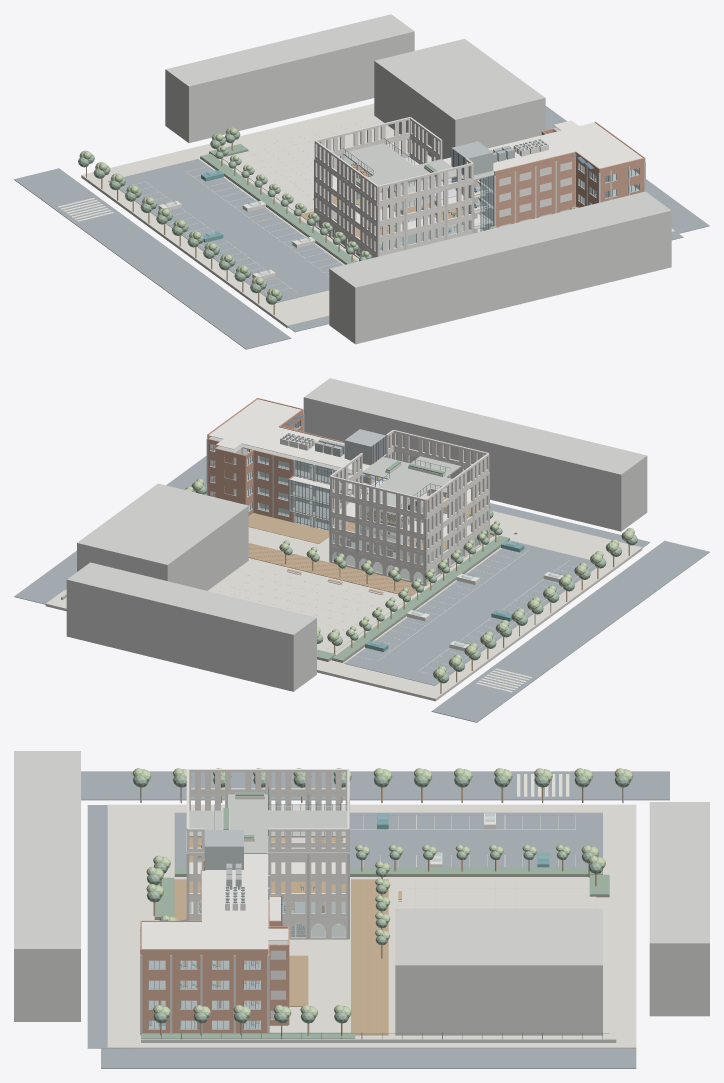
The model's file is Gayang_Library_Video.glb.
The picture shows the model from 3 angles, top to bottom: view 1: azimuth 30°, elevation 25°; view 2: azimuth 150°, elevation 25°; view 3: azimuth 270°, elevation 25°; orthographic projection. The views are drawn at different scales.
Parts seen in each view (by area): view 1: 09_context_concrete, 09_site_asphalt, 09_site_floor, 04_exterior_facade, 09_landscape_green, 03_ceiling_white, 03_exterior_facade, 04_slab_roof, 02_exterior_facade, 01_exterior_facade, 09_landscape_leaf2, 03_exterior_brick (+12 smaller); view 2: 09_context_concrete, 09_site_asphalt, 09_site_floor, 04_exterior_facade, 09_landscape_green, 03_ceiling_white, 09_site_deck, 09_landscape_leaf2, 03_exterior_facade, 04_slab_roof, 02_exterior_facade, 01_exterior_facade (+15 smaller); view 3: 09_context_concrete, 09_site_asphalt, 09_site_floor, 09_landscape_green, 03_ceiling_white, 09_site_deck, 04_exterior_facade, 09_landscape_leaf2, 04_slab_roof, 03_exterior_facade, 09_site_concrete, 03_exterior_brick (+23 smaller).
Part boxes in pixels (x1,y1,x2,y2): 09_context_concrete: (165, 14, 671, 344); 09_site_asphalt: (14, 106, 709, 349); 09_site_floor: (81, 103, 675, 328); 04_exterior_facade: (314, 117, 473, 205); 09_landscape_green: (78, 130, 371, 304); 03_ceiling_white: (343, 120, 642, 192); 03_exterior_facade: (315, 137, 472, 224); 04_slab_roof: (343, 127, 560, 194); 02_exterior_facade: (315, 157, 472, 240); 01_exterior_facade: (315, 195, 472, 256); 09_landscape_leaf2: (79, 127, 578, 296); 03_exterior_brick: (496, 127, 644, 191); 09_context_concrete: (66, 378, 647, 691); 09_site_asphalt: (14, 456, 709, 722); 09_site_floor: (45, 486, 642, 701); 04_exterior_facade: (329, 430, 489, 518); 09_landscape_green: (191, 482, 637, 683); 03_ceiling_white: (208, 399, 460, 504); 09_site_deck: (248, 513, 494, 596); 09_landscape_leaf2: (184, 476, 634, 678); 03_exterior_facade: (331, 450, 488, 538); 04_slab_roof: (209, 436, 467, 508); 02_exterior_facade: (331, 488, 488, 553); 01_exterior_facade: (331, 509, 488, 569); 09_context_concrete: (14, 751, 709, 1035); 09_site_asphalt: (81, 771, 669, 1068); 09_site_floor: (107, 804, 636, 1048); 09_landscape_green: (133, 775, 630, 1038); 03_ceiling_white: (142, 837, 345, 948); 09_site_deck: (174, 879, 388, 1035); 04_exterior_facade: (186, 769, 349, 853); 09_landscape_leaf2: (132, 768, 633, 1018); 04_slab_roof: (189, 794, 347, 944); 03_exterior_facade: (189, 794, 347, 878); 09_site_concrete: (141, 880, 616, 1042); 03_exterior_brick: (142, 859, 289, 974).
Bounding box in the file's own units: 105 × 22.62 × 104.
